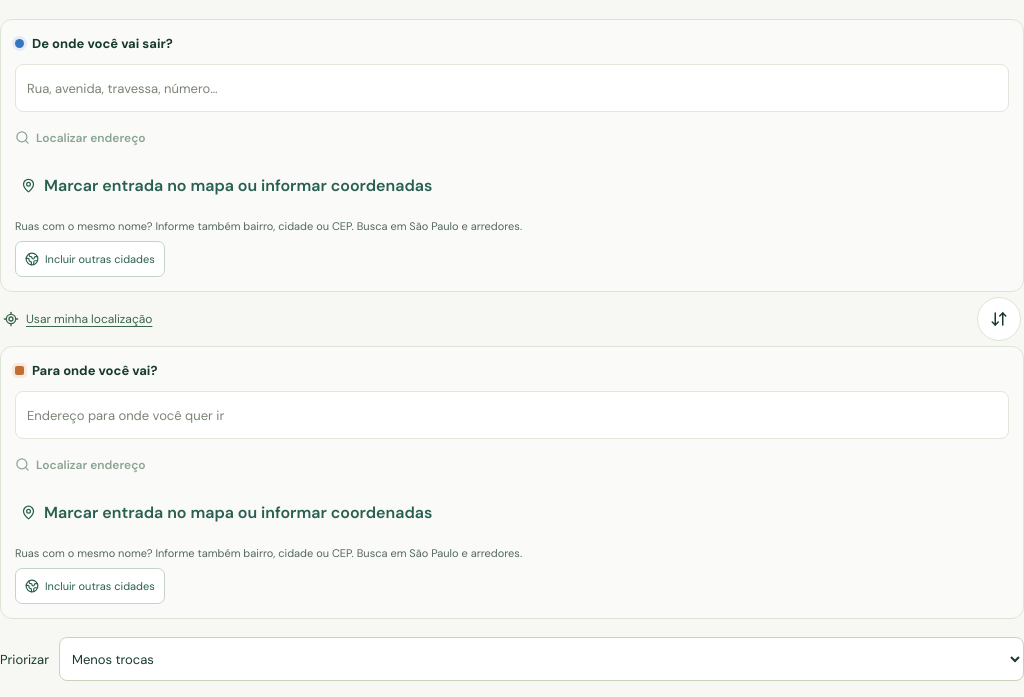
compara modos e preserva carro e transporte quando caminhada falha
Type "Rua Origem, 1000" into the dropdown labelled "De onde você vai sair?" at (512, 88), box [16,65,1008,111]
Click the button with aria-label "Localizar origem" at (80, 134), box [15,112,146,156]
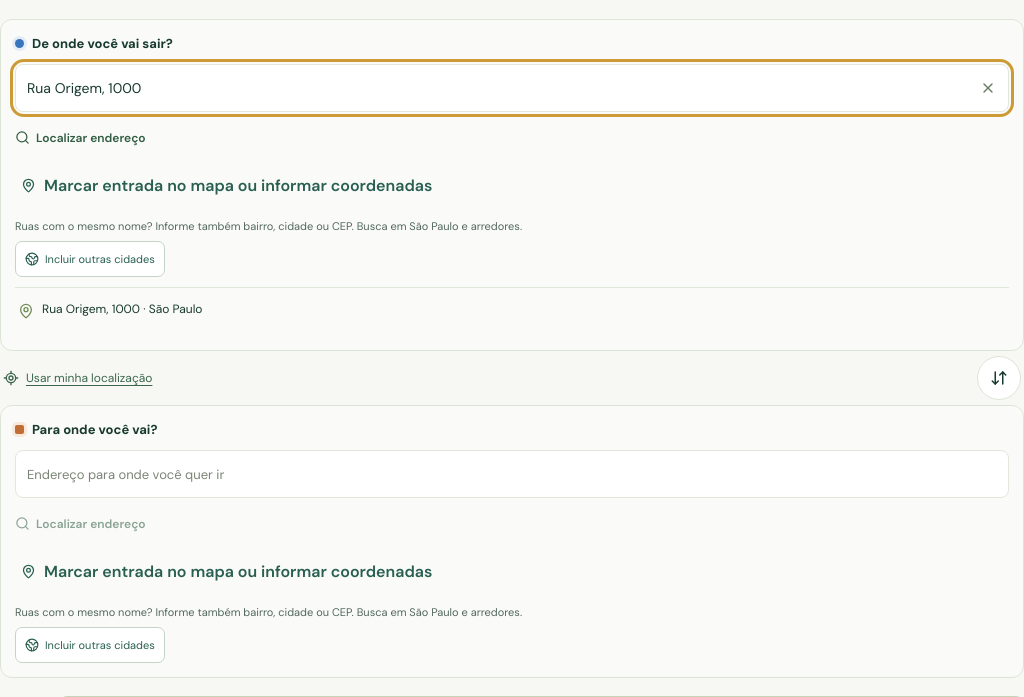
Click the option "Rua Origem, 1000 · São Paulo" at (122, 309), box [15,288,1009,336]
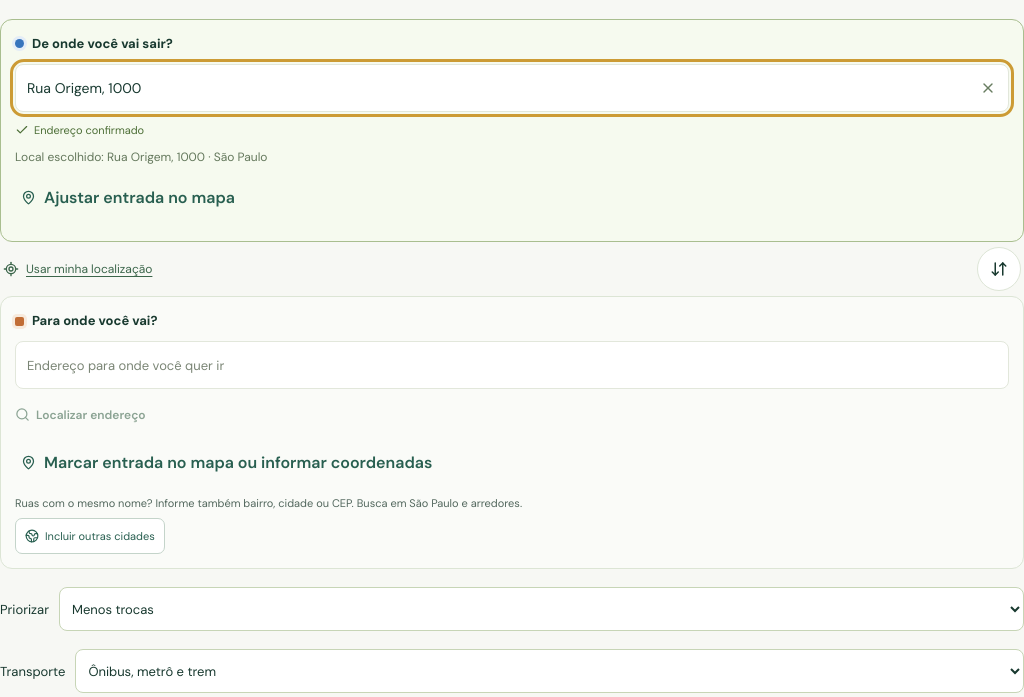
Type "Rua Destino, 1000" into the dropdown labelled "Para onde você vai?" at (512, 365), box [16,342,1008,388]
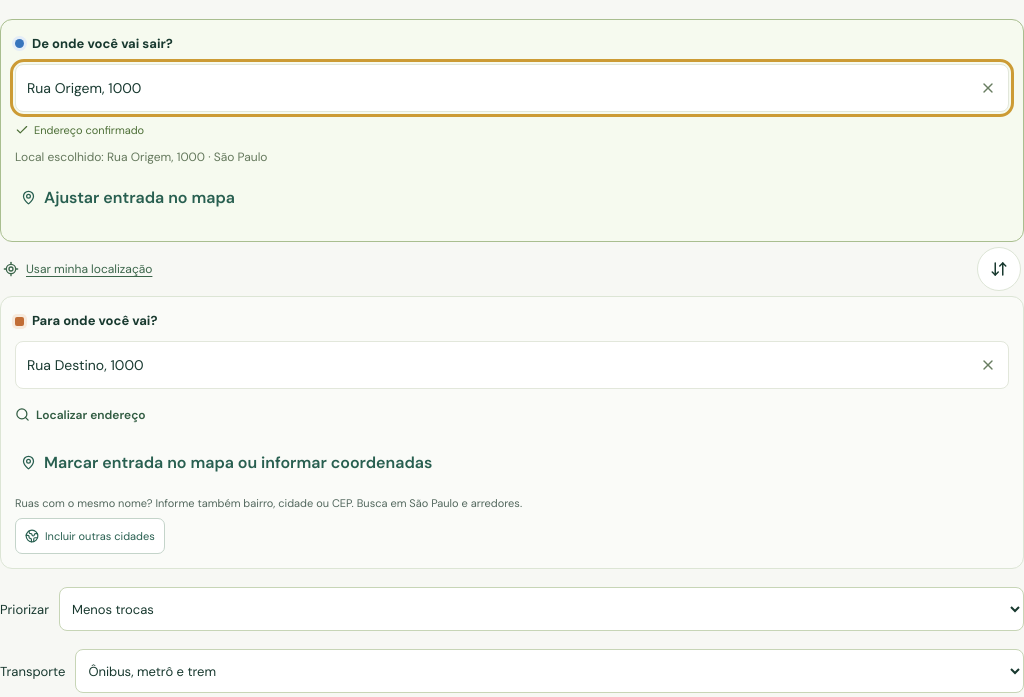
Click the button with aria-label "Localizar destino" at (80, 411), box [15,389,146,433]
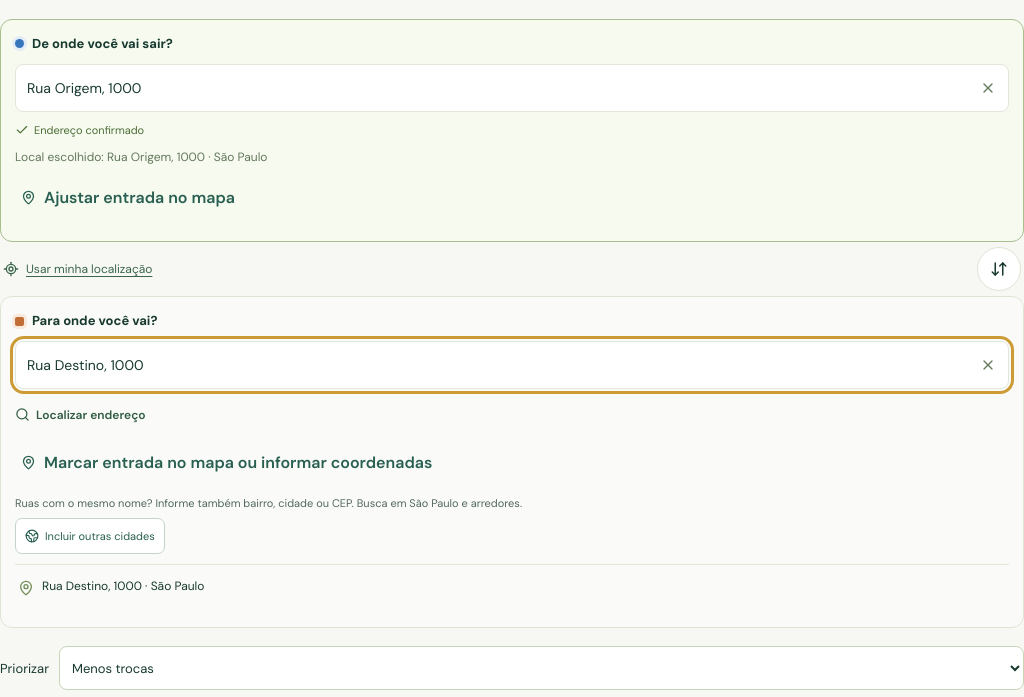
Click the option "Rua Destino, 1000 · São Paulo" at (123, 586), box [15,565,1009,613]
(page scrolled)
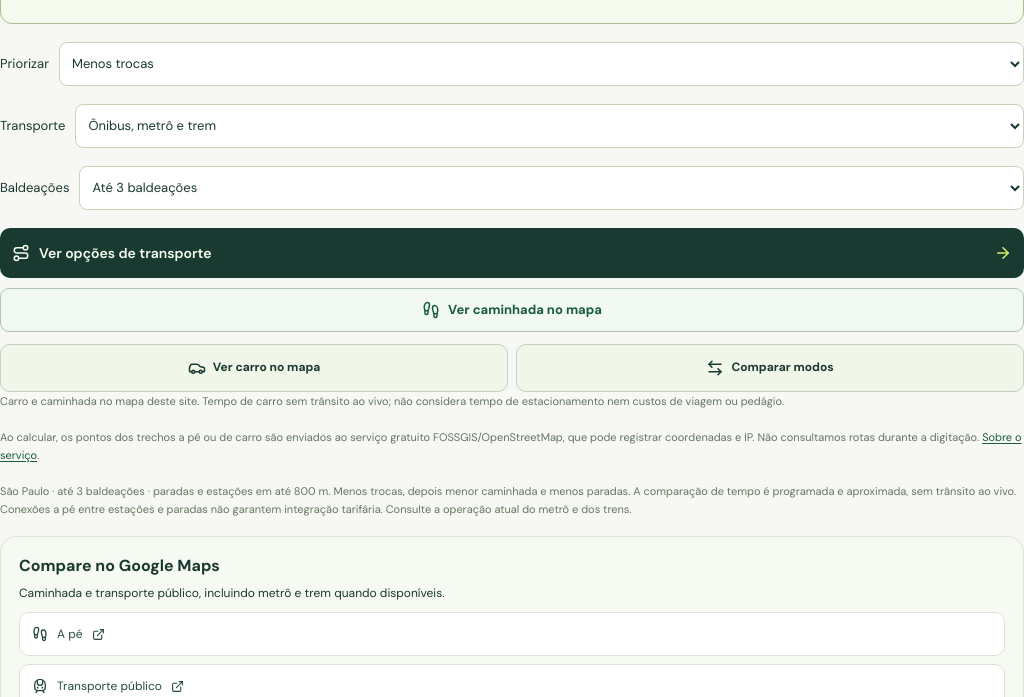
Click the button "Comparar modos" at (770, 368), box [516,344,1023,392]
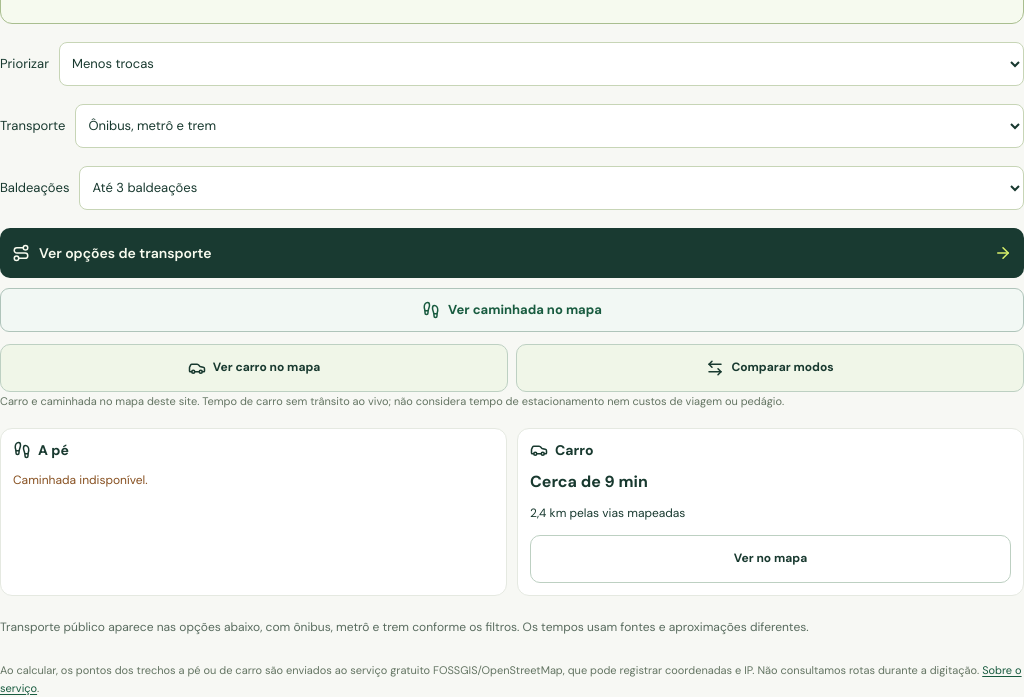
Result: the button with aria-label "Mostrar carro calculado no mapa" is shown at [530,535,1011,583]
Result: the text "Caminhada indisponível." is shown at [13,472,148,488]
